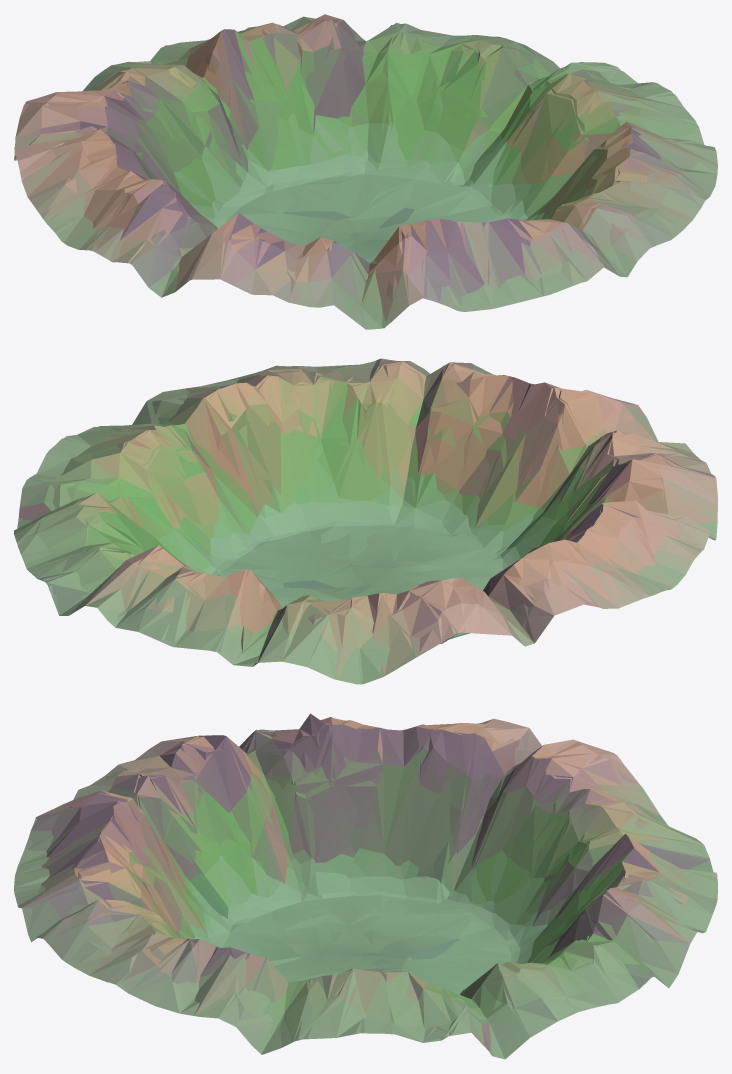
Rendered from zon_shell_far_raw_lod.glb.
3 renders of one model, top to bottom at view 1: azimuth 30°, elevation 25°; view 2: azimuth 150°, elevation 25°; view 3: azimuth 270°, elevation 25°, orthographic.
Parts seen in each view (by area): view 1: SM_shell_far_shell_far_terrain_x0_zm1_LOD2_raw, SM_shell_far_shell_far_terrain_x0_zm1_LOD1_raw, SM_shell_far_shell_far_terrain_xm1_zm1_LOD1_raw, SM_shell_far_shell_far_terrain_xm1_z0_LOD1_raw, SM_shell_far_shell_far_terrain_xm1_zm1_LOD2_raw, SM_shell_far_shell_far_terrain_x0_z0_LOD1_raw, SM_shell_far_shell_far_terrain_x0_z0_LOD2_raw, SM_shell_far_shell_far_terrain_xm1_z0_LOD2_raw; view 2: SM_shell_far_shell_far_terrain_x0_z0_LOD2_raw, SM_shell_far_shell_far_terrain_x0_z0_LOD1_raw, SM_shell_far_shell_far_terrain_xm1_z0_LOD1_raw, SM_shell_far_shell_far_terrain_xm1_z0_LOD2_raw, SM_shell_far_shell_far_terrain_x0_zm1_LOD2_raw, SM_shell_far_shell_far_terrain_x0_zm1_LOD1_raw, SM_shell_far_shell_far_terrain_xm1_zm1_LOD1_raw, SM_shell_far_shell_far_terrain_xm1_zm1_LOD2_raw; view 3: SM_shell_far_shell_far_terrain_xm1_zm1_LOD2_raw, SM_shell_far_shell_far_terrain_xm1_z0_LOD2_raw, SM_shell_far_shell_far_terrain_xm1_z0_LOD1_raw, SM_shell_far_shell_far_terrain_xm1_zm1_LOD1_raw, SM_shell_far_shell_far_terrain_x0_zm1_LOD1_raw, SM_shell_far_shell_far_terrain_x0_z0_LOD1_raw, SM_shell_far_shell_far_terrain_x0_z0_LOD2_raw, SM_shell_far_shell_far_terrain_x0_zm1_LOD2_raw.
Boxes of the visible parts, bbox=[...] form: SM_shell_far_shell_far_terrain_x0_zm1_LOD2_raw: bbox=[166, 16, 671, 232]; SM_shell_far_shell_far_terrain_x0_zm1_LOD1_raw: bbox=[181, 14, 662, 241]; SM_shell_far_shell_far_terrain_xm1_zm1_LOD1_raw: bbox=[14, 29, 365, 242]; SM_shell_far_shell_far_terrain_xm1_z0_LOD1_raw: bbox=[61, 179, 543, 329]; SM_shell_far_shell_far_terrain_xm1_zm1_LOD2_raw: bbox=[14, 29, 358, 245]; SM_shell_far_shell_far_terrain_x0_z0_LOD1_raw: bbox=[366, 88, 717, 295]; SM_shell_far_shell_far_terrain_x0_z0_LOD2_raw: bbox=[370, 90, 717, 294]; SM_shell_far_shell_far_terrain_xm1_z0_LOD2_raw: bbox=[64, 181, 550, 329]; SM_shell_far_shell_far_terrain_x0_z0_LOD2_raw: bbox=[62, 360, 509, 588]; SM_shell_far_shell_far_terrain_x0_z0_LOD1_raw: bbox=[64, 358, 502, 585]; SM_shell_far_shell_far_terrain_xm1_z0_LOD1_raw: bbox=[371, 375, 717, 591]; SM_shell_far_shell_far_terrain_xm1_z0_LOD2_raw: bbox=[374, 376, 717, 594]; SM_shell_far_shell_far_terrain_x0_zm1_LOD2_raw: bbox=[14, 430, 356, 651]; SM_shell_far_shell_far_terrain_x0_zm1_LOD1_raw: bbox=[14, 435, 370, 648]; SM_shell_far_shell_far_terrain_xm1_zm1_LOD1_raw: bbox=[193, 525, 670, 684]; SM_shell_far_shell_far_terrain_xm1_zm1_LOD2_raw: bbox=[186, 521, 673, 684]; SM_shell_far_shell_far_terrain_xm1_zm1_LOD2_raw: bbox=[351, 719, 716, 958]; SM_shell_far_shell_far_terrain_xm1_z0_LOD2_raw: bbox=[14, 713, 383, 953]; SM_shell_far_shell_far_terrain_xm1_z0_LOD1_raw: bbox=[14, 714, 377, 955]; SM_shell_far_shell_far_terrain_xm1_zm1_LOD1_raw: bbox=[351, 718, 717, 960]; SM_shell_far_shell_far_terrain_x0_zm1_LOD1_raw: bbox=[360, 849, 717, 1059]; SM_shell_far_shell_far_terrain_x0_z0_LOD1_raw: bbox=[14, 840, 373, 1054]; SM_shell_far_shell_far_terrain_x0_z0_LOD2_raw: bbox=[14, 836, 380, 1054]; SM_shell_far_shell_far_terrain_x0_zm1_LOD2_raw: bbox=[354, 848, 717, 1059].
Size of the model in its own units: 729 by 145 by 728.
